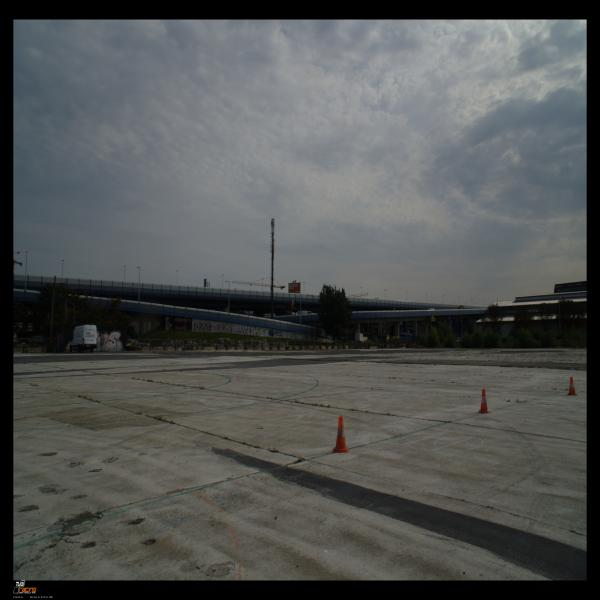orange_cone: (332, 416, 349, 453), (476, 388, 491, 414), (567, 376, 578, 396)
